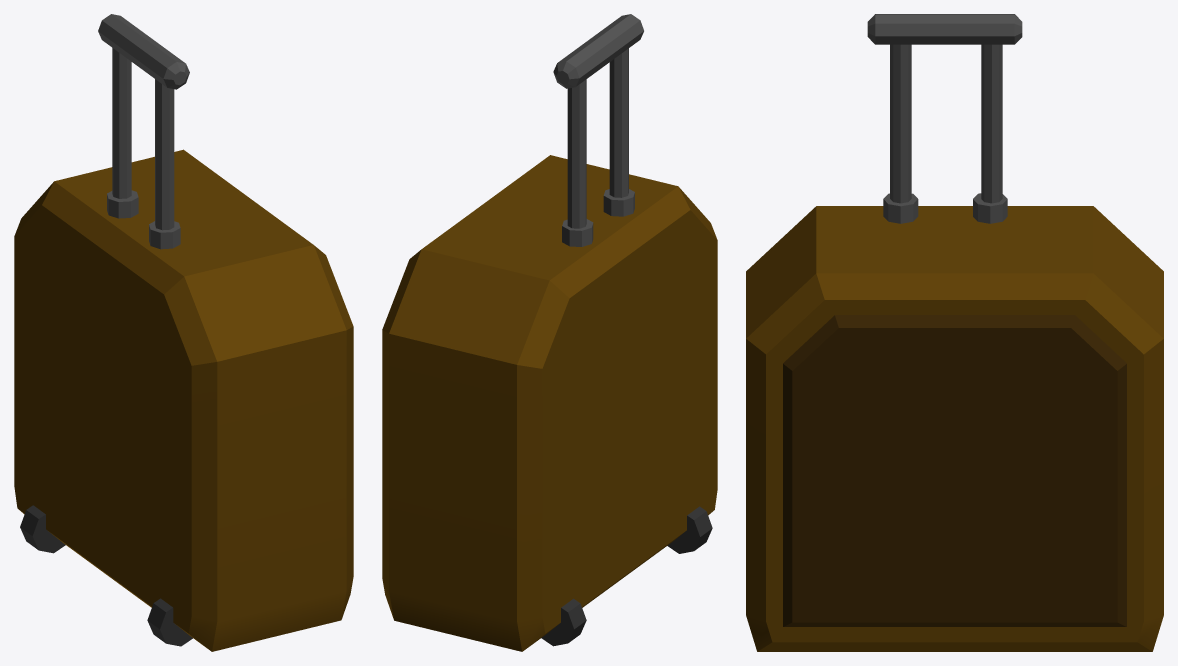
File: Luggage_1.fbx
The picture shows the model from 3 angles, left to right: view 1: azimuth 30°, elevation 25°; view 2: azimuth 150°, elevation 25°; view 3: azimuth 270°, elevation 25°; orthographic projection. The views are drawn at different scales.
Parts seen in each view (by area): view 1: pCylinder12; view 2: pCylinder12; view 3: pCylinder12.
Part boxes in pixels (<box>): pCylinder12: <box>14,14,353,651</box>; pCylinder12: <box>382,14,717,651</box>; pCylinder12: <box>746,14,1163,651</box>.
Size of the model in its own units: 2.93 by 8.48 by 5.44.
